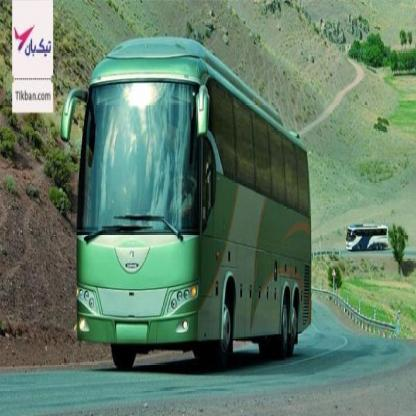Bus: (72, 30, 314, 367), (343, 226, 391, 250)
